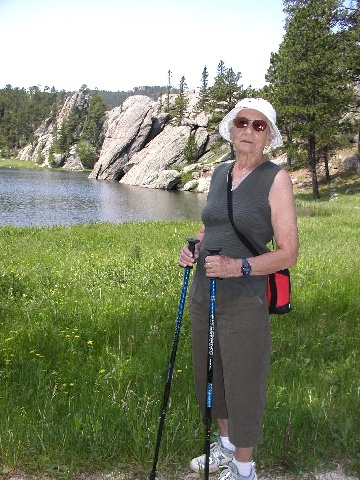head: (232, 99, 272, 153)
person: (177, 93, 296, 480)
